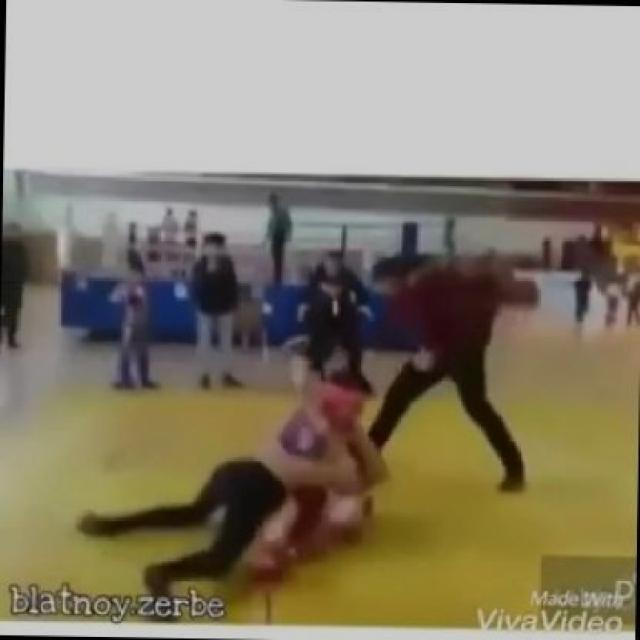fight: (68, 345, 395, 637)
non-fight: (348, 250, 538, 508), (176, 224, 256, 390), (97, 244, 165, 394), (296, 243, 374, 362), (0, 225, 32, 351)
